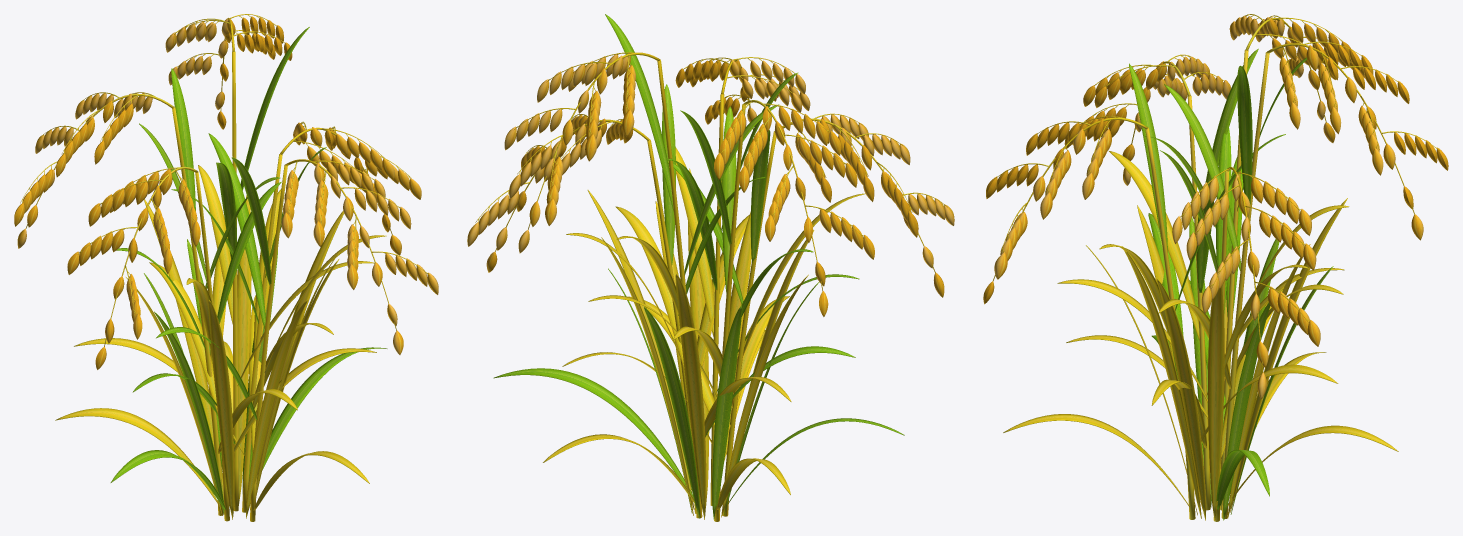
Rendered from NP_Rice_Ready.fbx.
3 renders of one model, left to right at view 1: azimuth 30°, elevation 25°; view 2: azimuth 150°, elevation 25°; view 3: azimuth 270°, elevation 25°, orthographic. The views are drawn at different scales.
Visible parts, largest first — view 1: NP_Rice_Ready; view 2: NP_Rice_Ready; view 3: NP_Rice_Ready.
Part boxes in pixels (x1,y1,x2,y2): NP_Rice_Ready: (14,14,438,521); NP_Rice_Ready: (467,14,954,521); NP_Rice_Ready: (983,14,1448,521).
Bounding box in the file's own units: 98.36 × 115 × 97.71.
